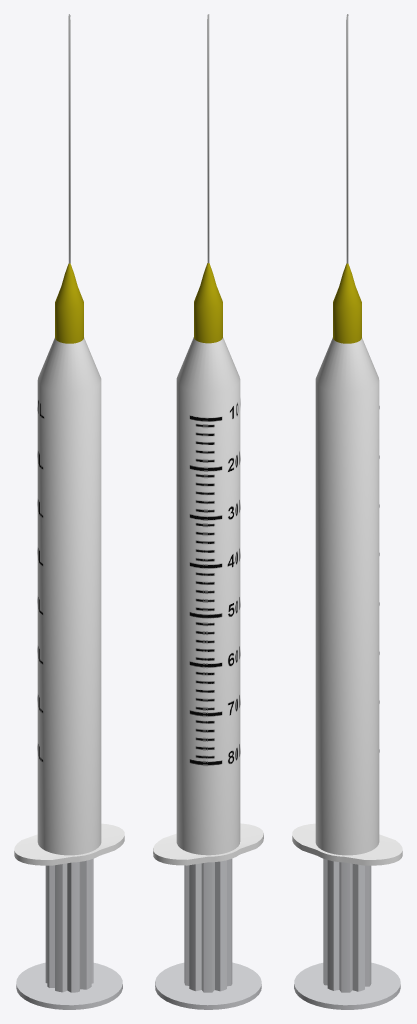
The model's file is syringefinal.fbx.
3 renders of one model, left to right at view 1: azimuth 30°, elevation 25°; view 2: azimuth 210°, elevation 25°; view 3: azimuth 330°, elevation 25°, orthographic.
Visible parts, largest first — view 1: barrel, plunger, adapter, needle; view 2: barrel, plunger, adapter, needle; view 3: barrel, plunger, adapter, needle.
Part boxes in pixels (x1,y1,x2,y2): barrel: (14,337,124,865); plunger: (16,858,122,1009); adapter: (55,263,83,343); needle: (68,14,70,263); barrel: (153,337,263,865); plunger: (155,859,261,1009); adapter: (194,263,222,343); needle: (207,14,209,263); barrel: (292,337,402,865); plunger: (294,858,400,1009); adapter: (333,263,361,343); needle: (346,14,348,263).
Bounding box in the file's own units: 33.34 × 296 × 29.4.
5 materials, 5 textured.
